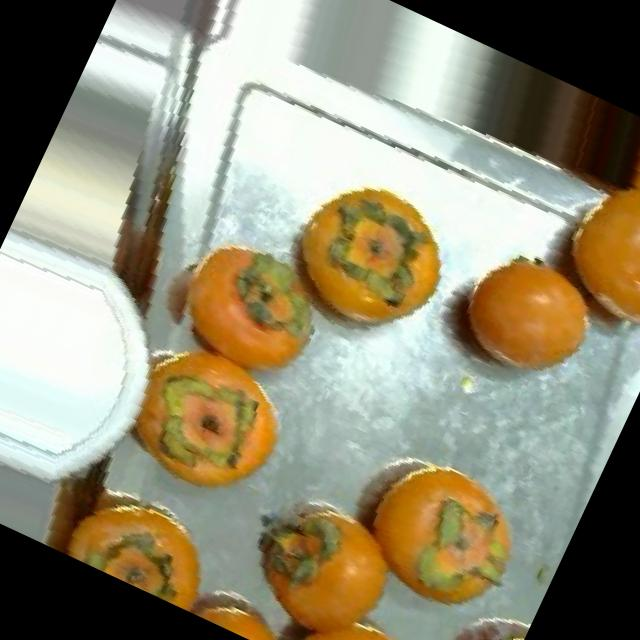Fruit: (130, 204, 354, 410), (264, 170, 473, 370), (418, 217, 628, 416), (99, 334, 308, 530), (210, 460, 437, 640), (52, 463, 242, 618), (175, 560, 316, 640), (399, 583, 534, 640), (306, 595, 469, 640)
